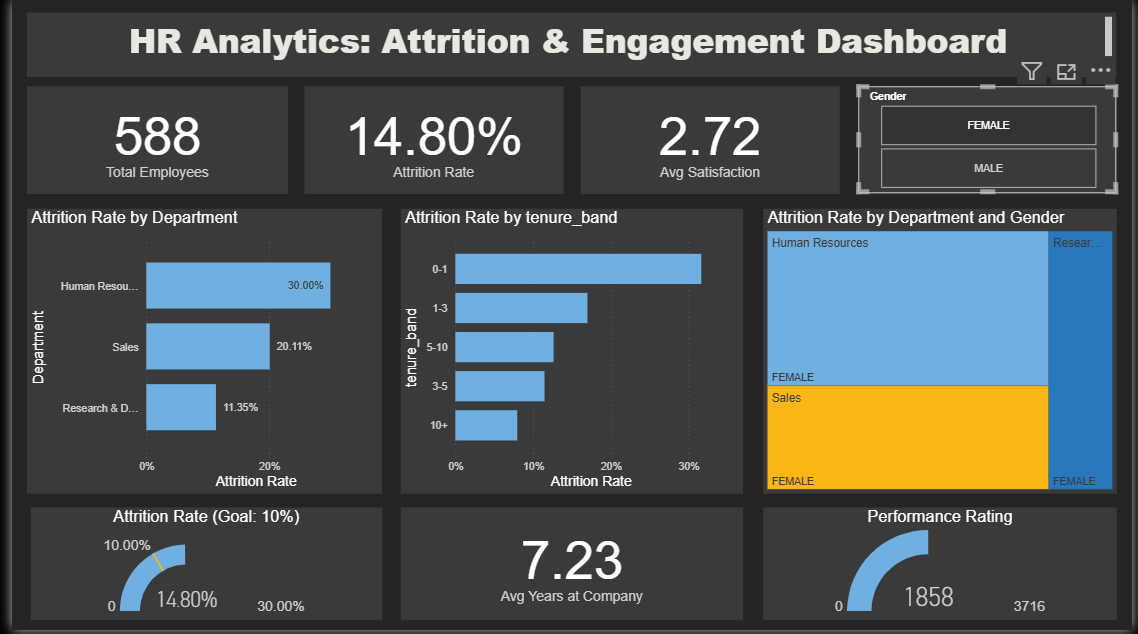

What the dashboard file says about the page in this screenshot:
{"tool":"powerbi","page":{"name":"Page 1","canvas":[1280,720],"ordinal":0},"visuals":[{"type":"card","fields":{"Values":["hr_clean.Total Employees"]},"box":[17.1,98.6,298.6,122.9],"z":0},{"type":"card","fields":{"Values":["hr_clean.Attrition Rate"]},"box":[334.3,98.6,295.7,122.9],"z":1000},{"type":"card","fields":{"Values":["hr_clean.Avg Satisfaction"]},"box":[650,98.6,295.7,122.9],"z":2000},{"type":"clusteredBarChart","fields":{"Category":["hr_clean.Department"],"Y":["hr_clean.Attrition Rate"]},"box":[17.1,238.6,405.7,325.7],"z":3000},{"type":"clusteredBarChart","fields":{"Y":["hr_clean.Attrition Rate"],"Category":["hr_clean.tenure_band"]},"box":[444.3,238.6,391.4,325.7],"z":4000},{"type":"slicer","fields":{"Values":["hr_clean.Gender"]},"box":[967.1,98.6,295.7,122.9],"z":5000},{"type":"treemap","fields":{"Group":["hr_clean.Department"],"Details":["hr_clean.Gender"],"Values":["hr_clean.Attrition Rate"]},"box":[858.6,238.6,404.3,325.7],"z":6000},{"type":"textbox","box":[17.1,14.7,1244.8,73.4],"z":7000},{"type":"gauge","fields":{"Y":["Sum(hr_clean.PerformanceRating)"]},"box":[858.6,580,404.3,128.6],"z":8000},{"type":"card","fields":{"Values":["Avg(hr_clean.YearsAtCompany)"]},"box":[444.3,580,391.4,128.6],"z":8001},{"type":"gauge","title":"Attrition Rate (Goal: 10%)","fields":{"Y":["hr_clean.Attrition Rate"],"TargetValue":["hr_clean.Attrition Goal"],"MinValue":["hr_clean.Gauge Min"],"MaxValue":["hr_clean.Gauge Max"]},"box":[21.4,580,401.4,128.6],"z":8002}]}

Visuals, with their boxes in screenshot pixels (x1, y1, x2, y2), scaled from the page's 1280x720 canvas onto the 1138x634 screenshot:
card - hr_clean.Total Employees: box=[15, 87, 281, 195]
card - hr_clean.Attrition Rate: box=[297, 87, 560, 195]
card - hr_clean.Avg Satisfaction: box=[578, 87, 841, 195]
clusteredBarChart - hr_clean.Department x hr_clean.Attrition Rate: box=[15, 210, 376, 497]
clusteredBarChart - hr_clean.Attrition Rate x hr_clean.tenure_band: box=[395, 210, 743, 497]
slicer - hr_clean.Gender: box=[860, 87, 1123, 195]
treemap - hr_clean.Department x hr_clean.Gender: box=[763, 210, 1123, 497]
textbox: box=[15, 13, 1122, 78]
gauge - Sum(hr_clean.PerformanceRating): box=[763, 511, 1123, 624]
card - Avg(hr_clean.YearsAtCompany): box=[395, 511, 743, 624]
"Attrition Rate (Goal: 10%)" gauge: box=[19, 511, 376, 624]
